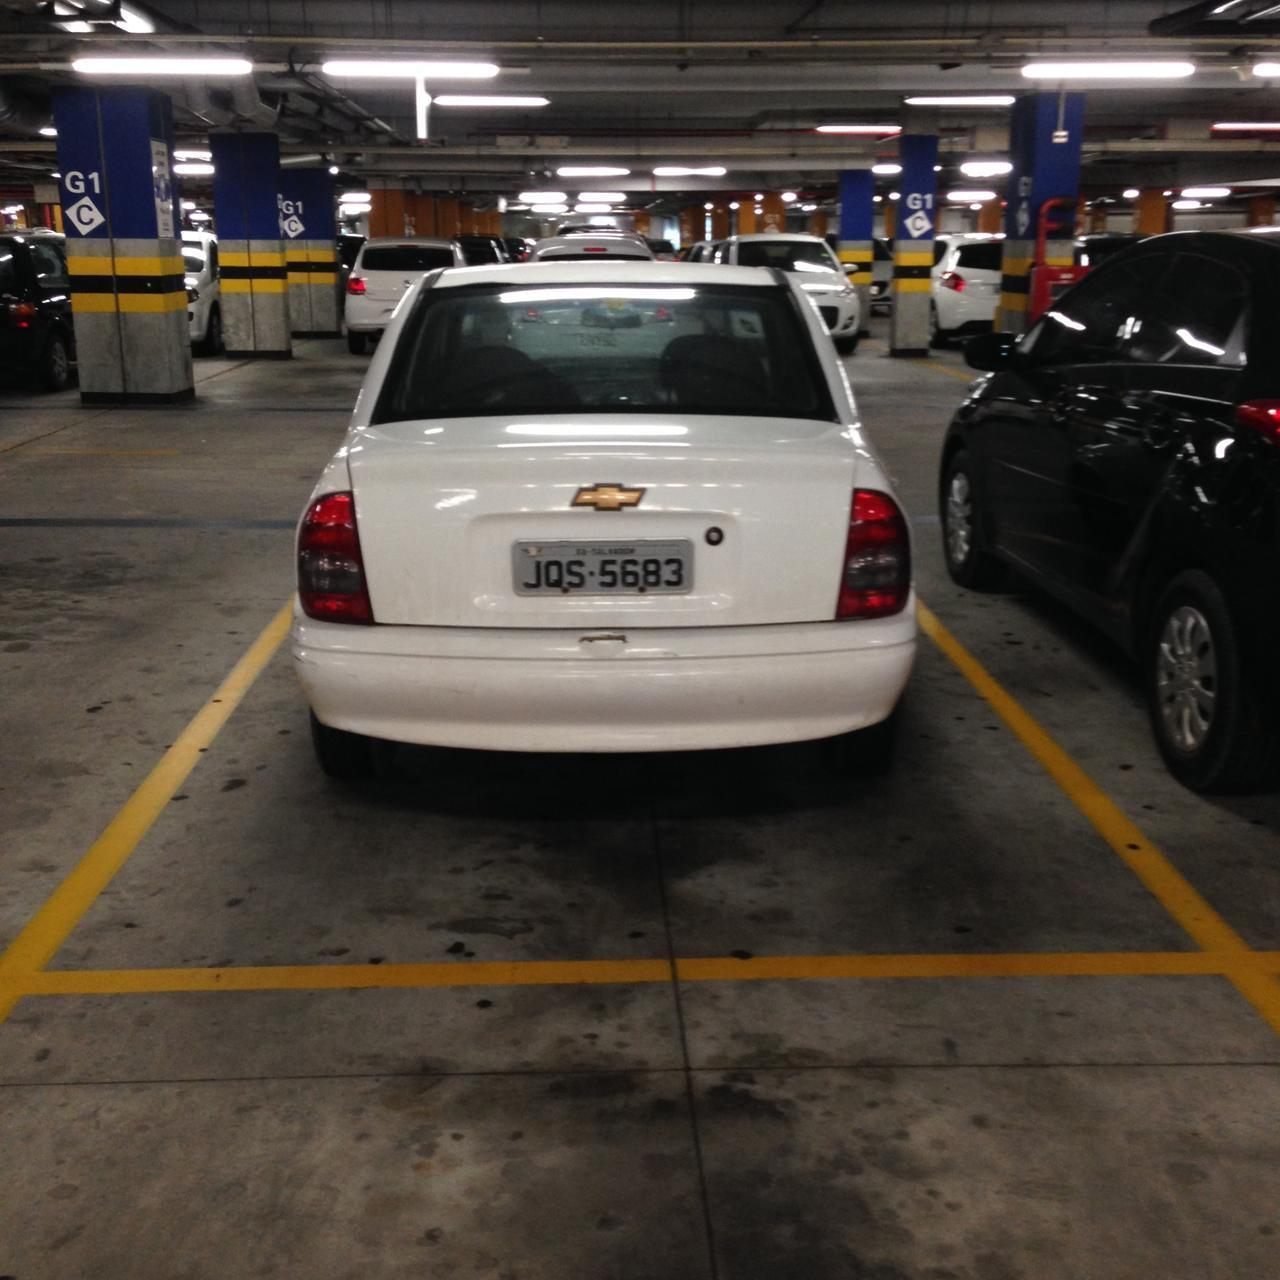placa de veiculo: (492, 530, 711, 613)
